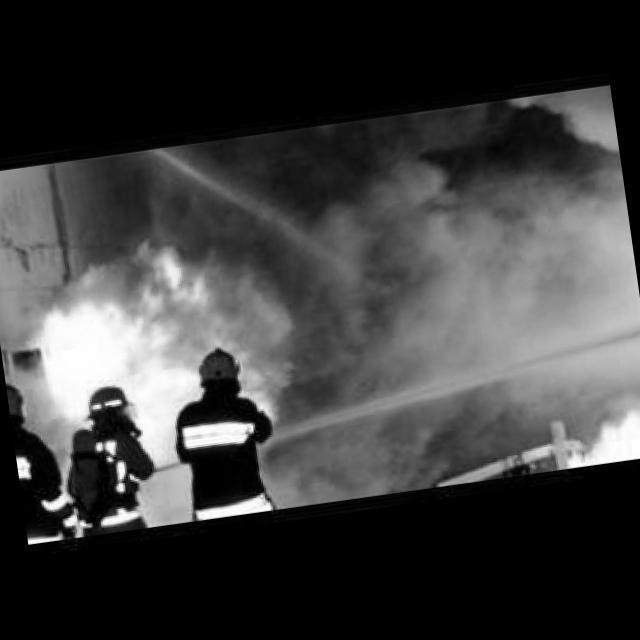fire: (22, 232, 280, 438)
